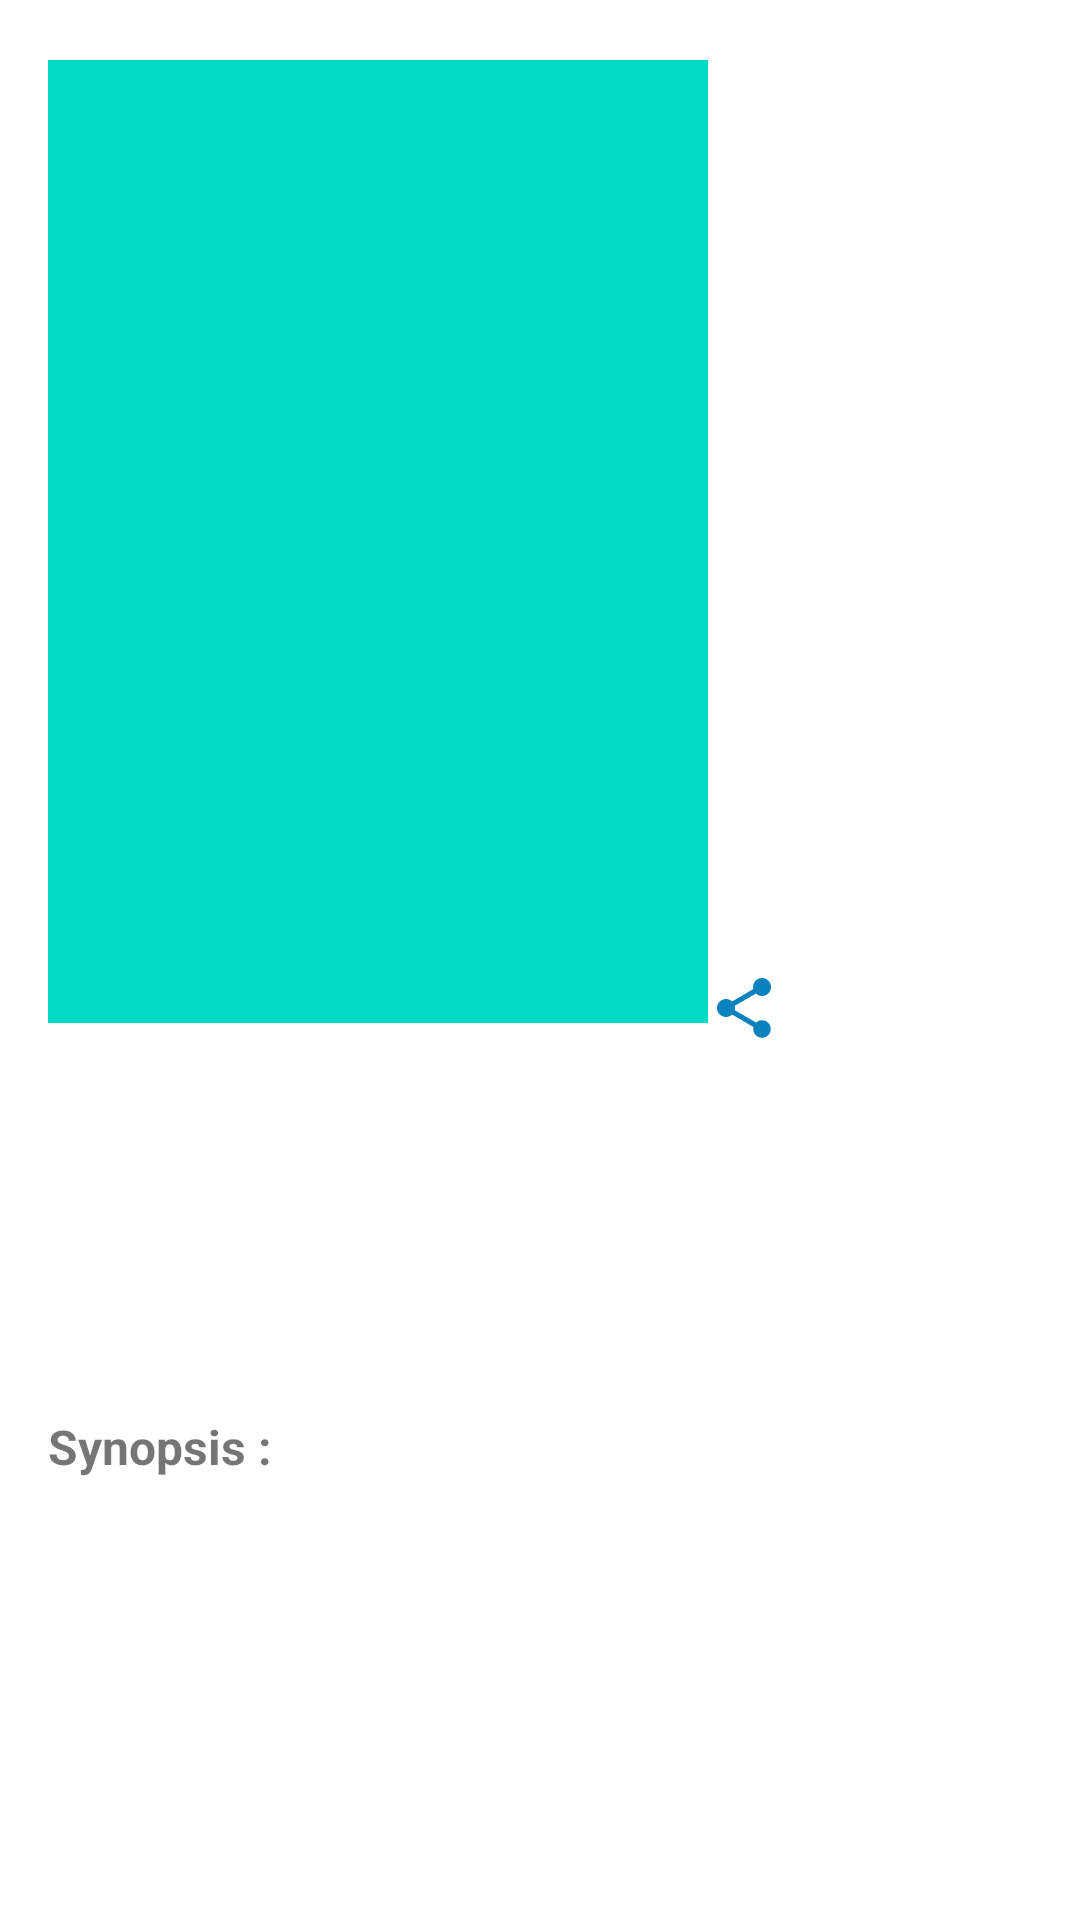

Icon click points for this 1080px x 1920px phone screenshot, format [x,y]:
share: [744,1008]
